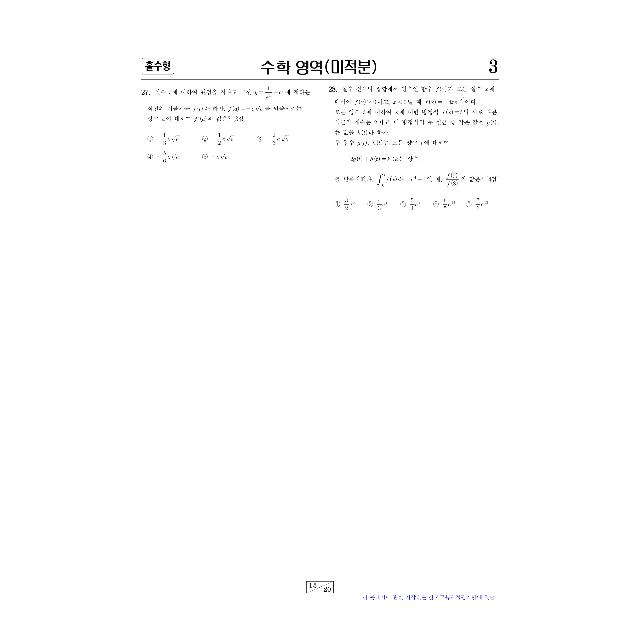multiple: (323, 80, 505, 216), (137, 84, 316, 168)
